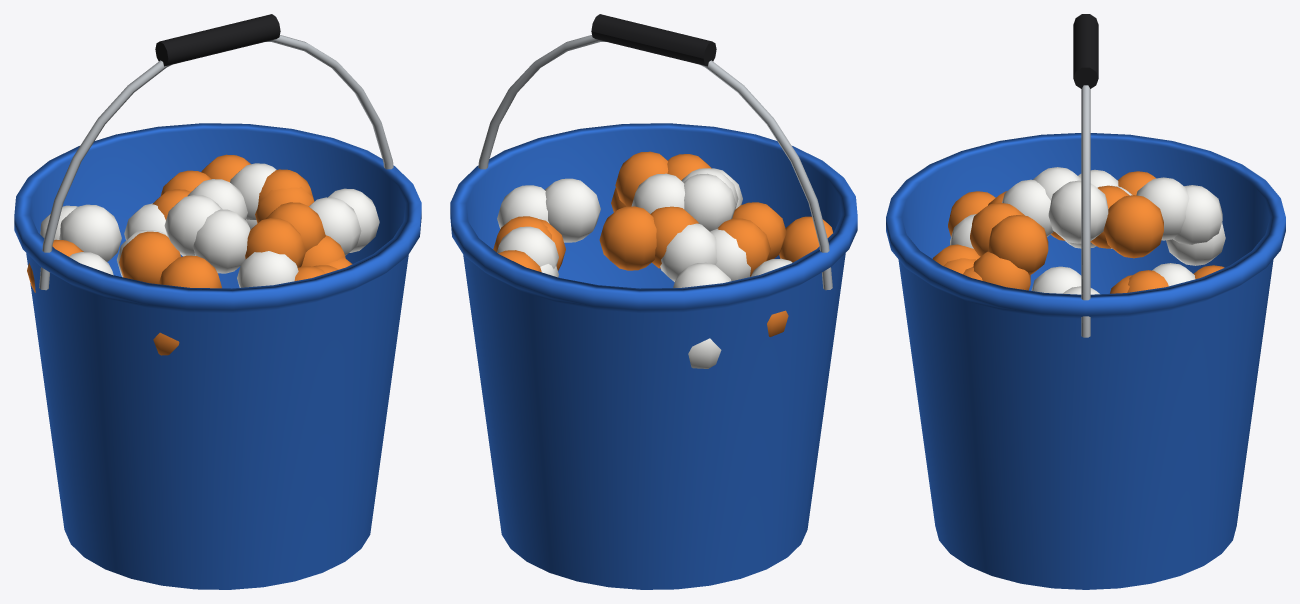
Rendered from ball_bucket.glb.
The picture shows the model from 3 angles, left to right: view 1: azimuth 30°, elevation 25°; view 2: azimuth 150°, elevation 25°; view 3: azimuth 270°, elevation 25°; orthographic projection. The views are drawn at different scales.
Parts seen in each view (by area): view 1: BallBucket; view 2: BallBucket; view 3: BallBucket.
Boxes of the visible parts, box(x1,y1,x2,y2) form: BallBucket: box(14, 14, 421, 589); BallBucket: box(450, 14, 857, 589); BallBucket: box(886, 14, 1285, 589).
Size of the model in its own units: 0.2532 by 0.3376 by 0.252.
